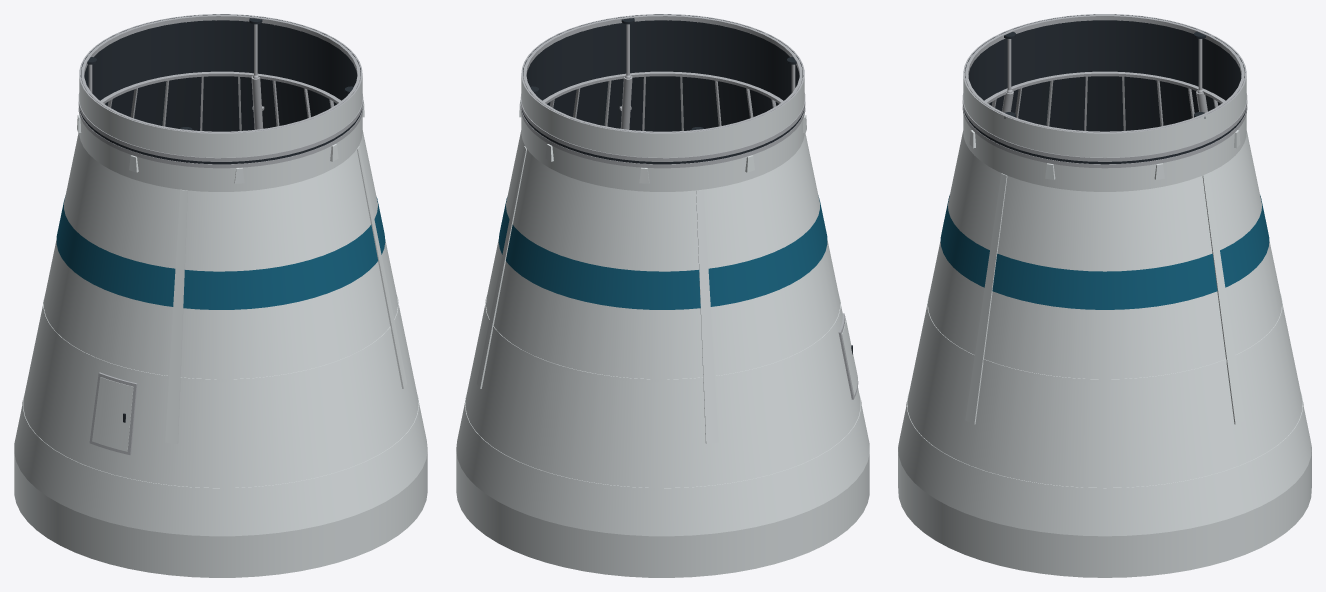
Rendered from interstage_pneumatic_d54_to_d37.fbx.
3 views of the same model, side by side, from view 1: azimuth 30°, elevation 25°; view 2: azimuth 150°, elevation 25°; view 3: azimuth 270°, elevation 25° (orthographic).
Visible parts, largest first — view 1: interstage_pneumatic_d54_to_d37_LOD0; view 2: interstage_pneumatic_d54_to_d37_LOD0; view 3: interstage_pneumatic_d54_to_d37_LOD0.
Part boxes in pixels (x1,y1,x2,y2): interstage_pneumatic_d54_to_d37_LOD0: (14, 14, 427, 577); interstage_pneumatic_d54_to_d37_LOD0: (456, 14, 869, 577); interstage_pneumatic_d54_to_d37_LOD0: (898, 14, 1311, 577).
Size of what is drawn, in the model's own units: 5.4 by 6 by 5.4.
